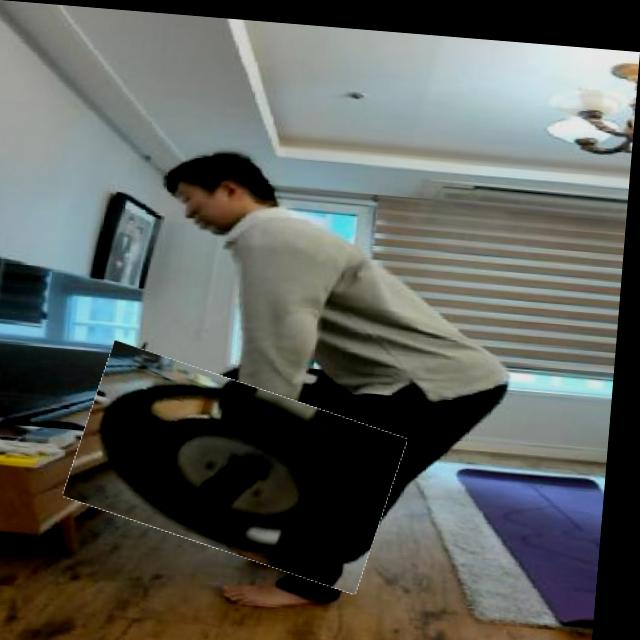barbell: (76, 355, 411, 574)
